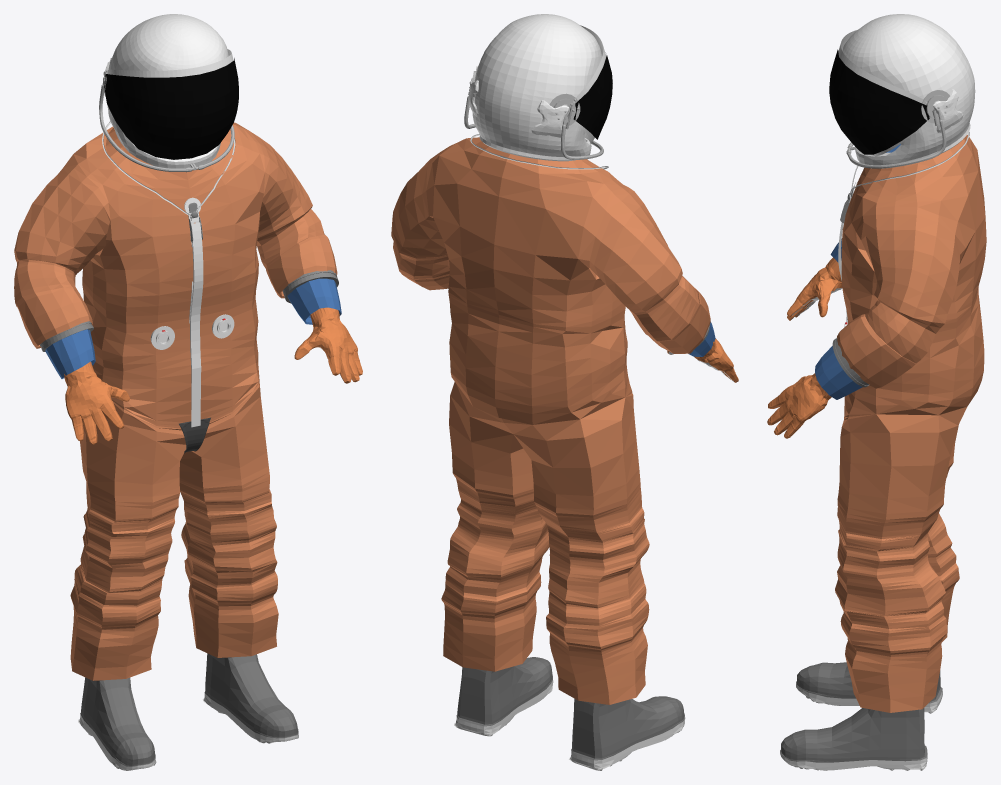
The model's file is acesjustforroomshow.glb.
The picture shows the model from 3 angles, left to right: view 1: azimuth 30°, elevation 25°; view 2: azimuth 150°, elevation 25°; view 3: azimuth 270°, elevation 25°; orthographic projection. The views are drawn at different scales.
Visible parts, largest first — view 1: acesjust39, acesjust14, acesjustf9, acesjust41, acesjust42, acesjust44, acesjust40, acesjust43, acesjustfo, acesjust10, acesjust15, acesjustf0; view 2: acesjust39, acesjustf9, acesjust42, acesjust41, acesjust14, acesjust19, acesjust44; view 3: acesjust39, acesjustf9, acesjust41, acesjust14, acesjust42, acesjust43, acesjust44, acesjust40, acesjust10, acesjust18, acesjust15, acesjust31 (+1 smaller).
Boxes of the visible parts, <box> form: acesjust39: <box>14,122,337,680</box>; acesjust14: <box>104,58,238,159</box>; acesjustf9: <box>107,14,228,168</box>; acesjust41: <box>202,653,298,743</box>; acesjust42: <box>78,677,156,770</box>; acesjust44: <box>64,361,129,444</box>; acesjust40: <box>45,278,341,378</box>; acesjust43: <box>294,307,362,383</box>; acesjustfo: <box>190,222,203,427</box>; acesjust10: <box>107,49,233,77</box>; acesjust15: <box>99,84,234,172</box>; acesjustf0: <box>179,417,210,453</box>; acesjust39: <box>391,137,710,704</box>; acesjustf9: <box>472,14,601,161</box>; acesjust42: <box>569,696,685,770</box>; acesjust41: <box>454,657,553,736</box>; acesjust14: <box>573,55,612,139</box>; acesjust19: <box>531,100,569,137</box>; acesjust44: <box>667,338,738,382</box>; acesjust39: <box>835,134,986,712</box>; acesjustf9: <box>842,14,975,165</box>; acesjust41: <box>780,708,927,770</box>; acesjust14: <box>829,49,929,154</box>; acesjust42: <box>796,662,942,713</box>; acesjust43: <box>767,373,831,438</box>; acesjust44: <box>787,257,842,320</box>; acesjust40: <box>815,144,900,399</box>; acesjust10: <box>838,30,927,156</box>; acesjust18: <box>933,89,963,132</box>; acesjust15: <box>846,119,946,168</box>; acesjust31: <box>921,90,949,123</box>.
Bounding box in the file's own units: 0.8872 × 2 × 0.5549.
